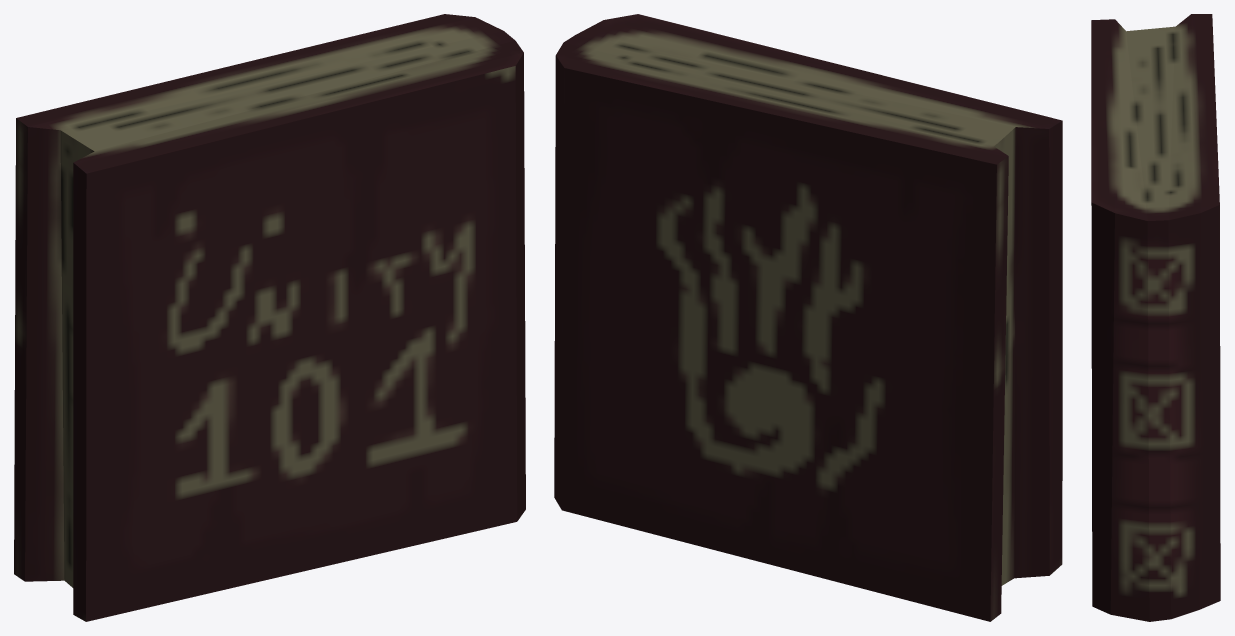
The model's file is Book2.fbx.
3 views of the same model, side by side, from view 1: azimuth 30°, elevation 25°; view 2: azimuth 150°, elevation 25°; view 3: azimuth 270°, elevation 25° (orthographic). The views are drawn at different scales.
Visible parts, largest first — view 1: Book2; view 2: Book2; view 3: Book2.
Boxes of the visible parts, left/top/right/bottom form: Book2: left=14, top=14, right=525, bottom=621; Book2: left=554, top=14, right=1062, bottom=621; Book2: left=1091, top=14, right=1220, bottom=621.
Bounding box in the file's own units: 0.4788 × 0.4555 × 0.1307.
